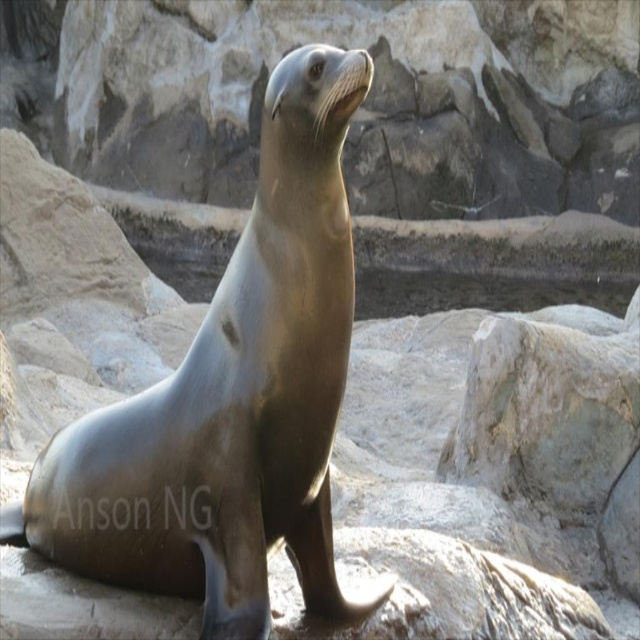Sea lion: (0, 46, 398, 639)
